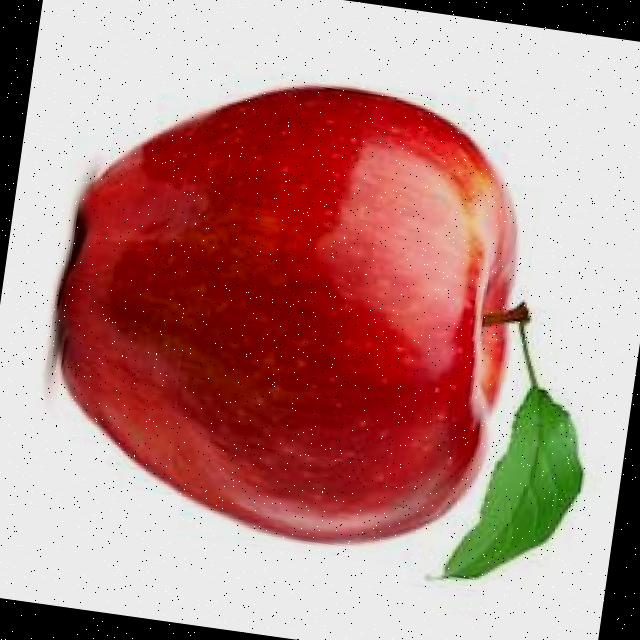apple: (27, 51, 540, 566)
